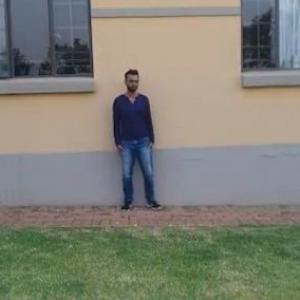follow: (112, 67, 154, 210)
